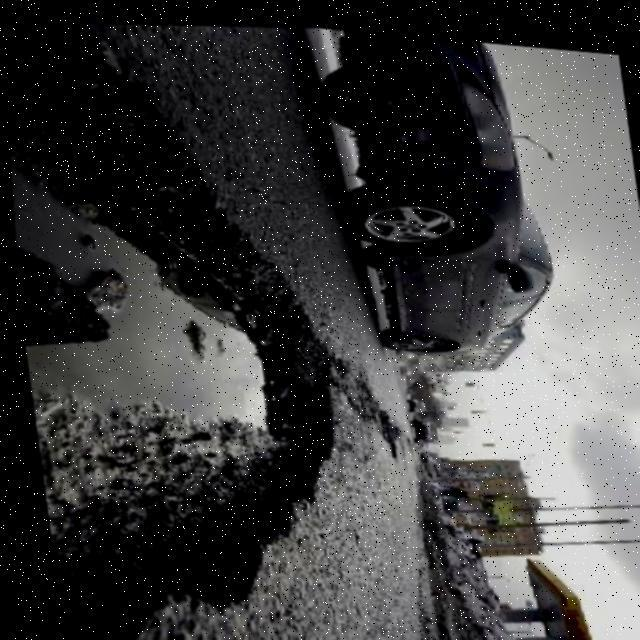pothole: (1, 1, 372, 640)
